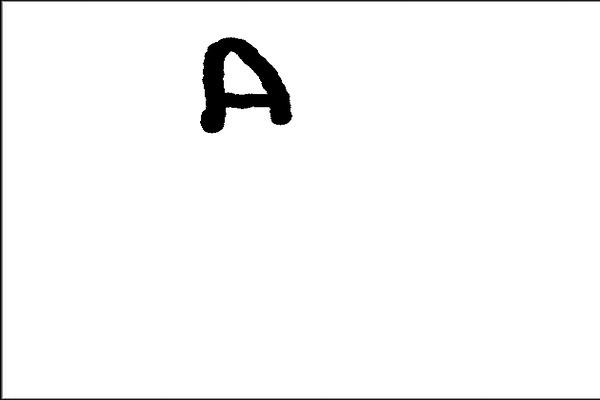A: (185, 28, 300, 143)
